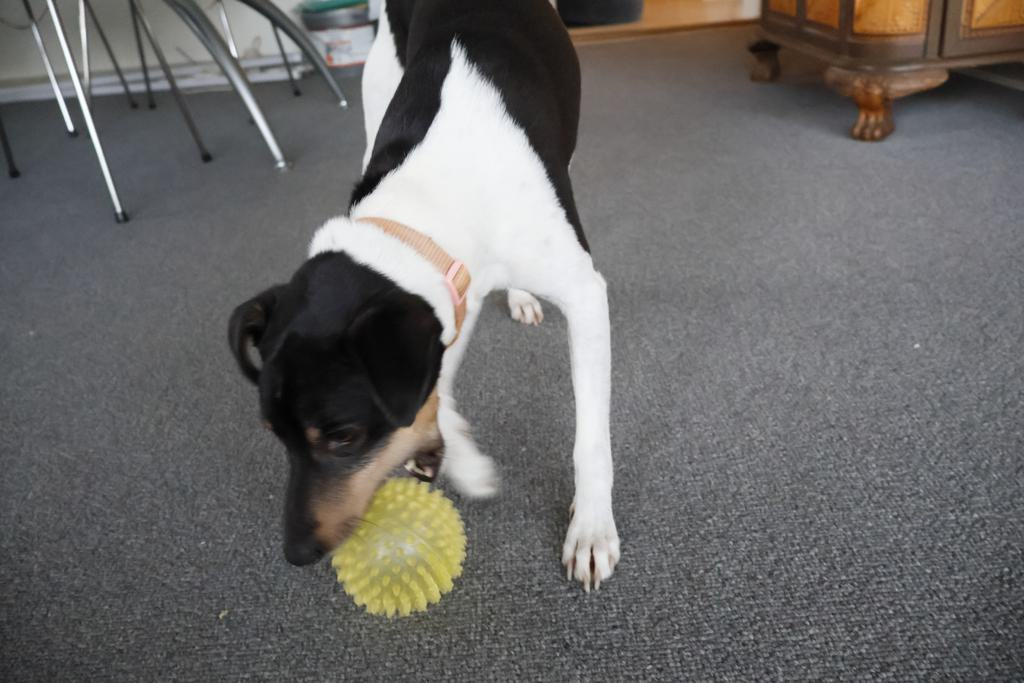Dog: (223, 0, 626, 600)
